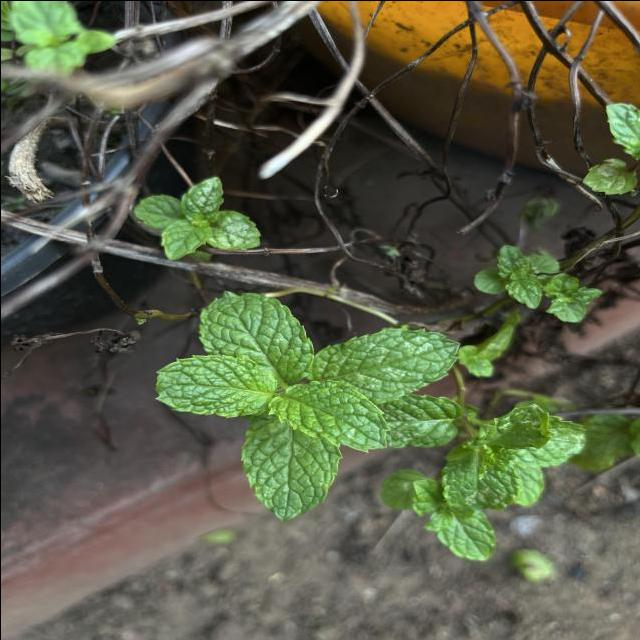Mentha spicata: (197, 288, 316, 387), (314, 325, 462, 404), (240, 412, 344, 522), (268, 378, 392, 453), (152, 352, 277, 418)
